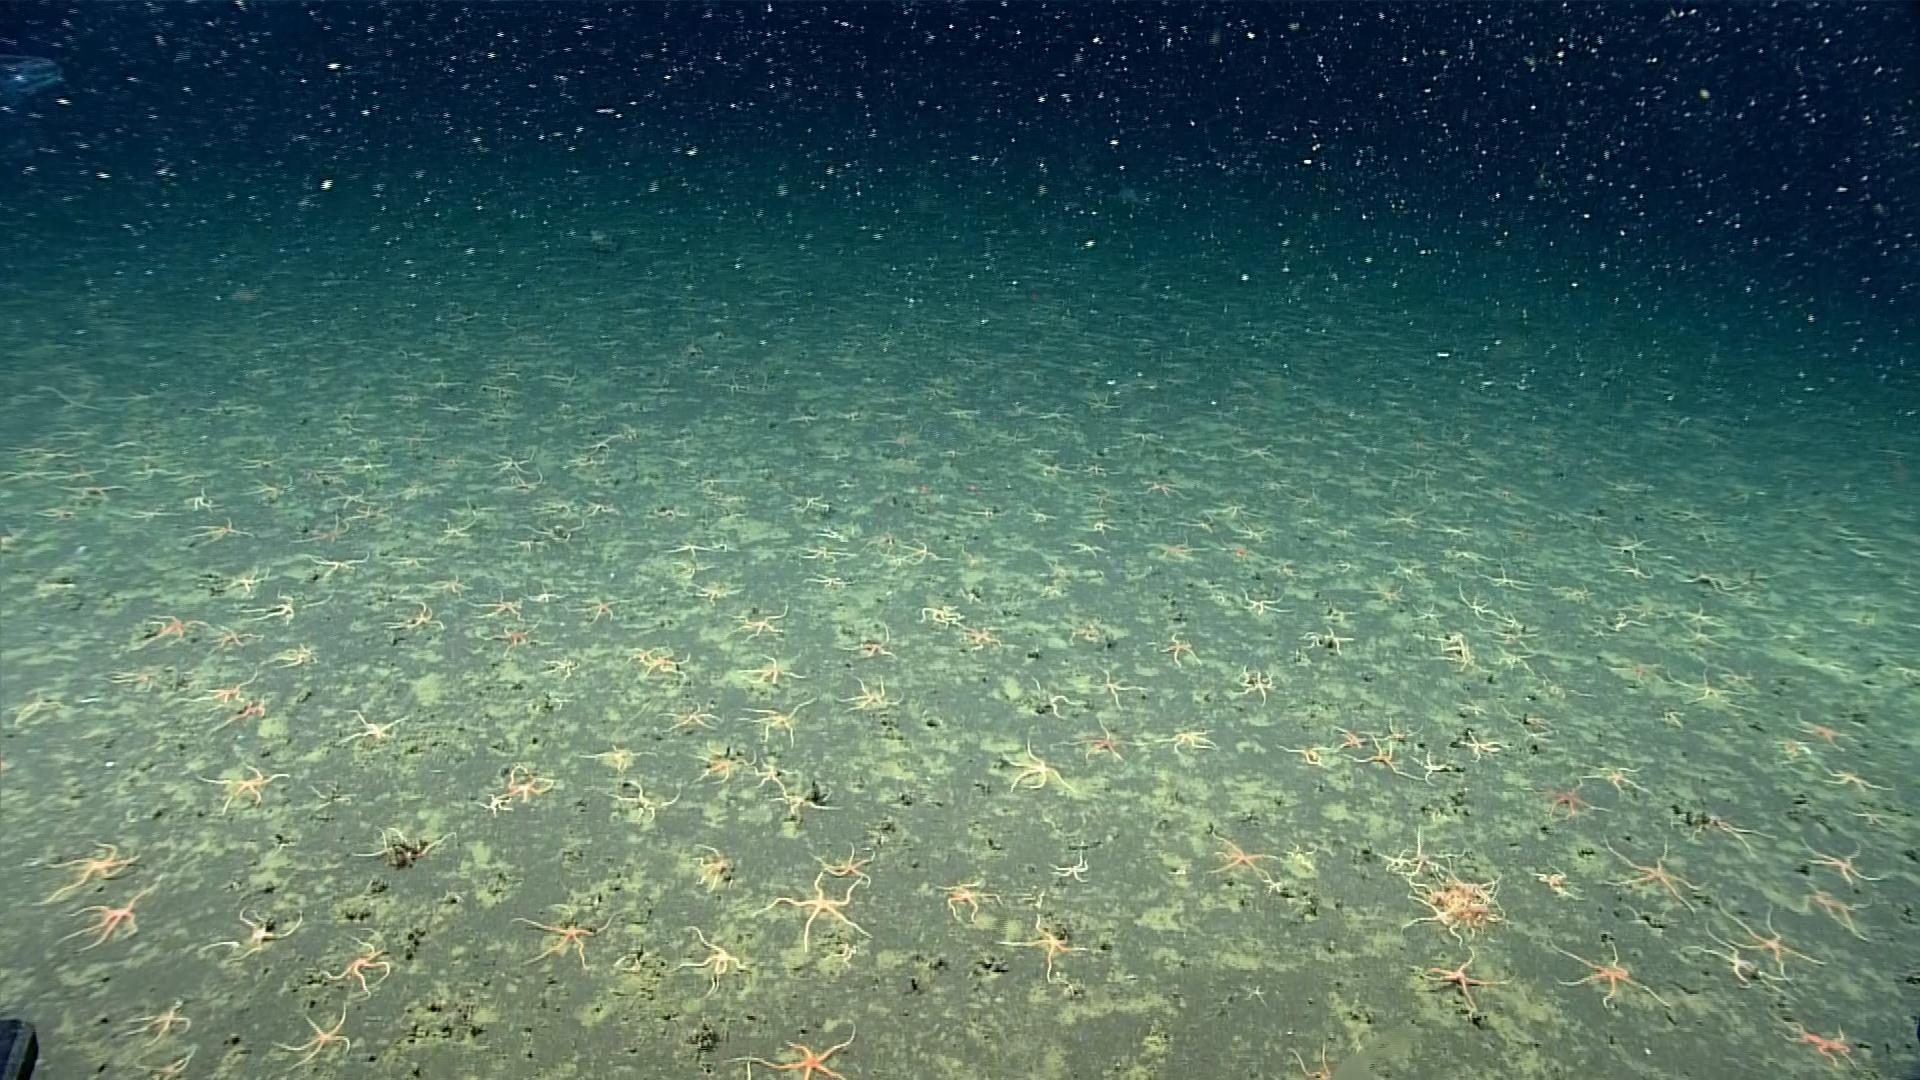brittle_sea_star: (732, 856, 861, 927), (51, 876, 164, 956), (28, 832, 141, 909), (1724, 905, 1829, 980), (1555, 943, 1672, 1010), (1610, 835, 1708, 914), (724, 1021, 866, 1075), (1411, 947, 1514, 1021), (1681, 915, 1779, 990), (504, 902, 613, 968), (993, 913, 1088, 978), (311, 926, 397, 998), (198, 903, 305, 960), (266, 998, 352, 1065), (671, 923, 749, 993), (1795, 880, 1878, 944), (195, 758, 289, 814), (1775, 1014, 1862, 1069), (352, 822, 459, 866), (1063, 708, 1146, 765), (989, 733, 1069, 791), (1681, 810, 1774, 857), (121, 607, 208, 653), (1801, 837, 1879, 889), (1196, 828, 1273, 877), (793, 823, 866, 873), (1396, 816, 1462, 872), (732, 688, 808, 736), (119, 993, 193, 1040), (1669, 663, 1747, 708), (1342, 735, 1418, 781), (1534, 777, 1611, 820), (1079, 661, 1146, 711), (928, 870, 997, 919), (331, 705, 410, 746), (603, 767, 675, 811), (177, 667, 257, 704), (723, 596, 790, 640), (471, 613, 550, 650), (828, 669, 901, 708), (682, 729, 744, 774), (1017, 671, 1073, 720), (828, 618, 897, 658), (1783, 712, 1858, 748), (210, 692, 272, 735), (1393, 885, 1452, 927), (182, 513, 252, 549), (1584, 758, 1651, 795), (687, 841, 735, 893), (740, 647, 806, 684), (286, 508, 349, 546), (1813, 765, 1890, 796), (131, 1038, 200, 1072), (1150, 716, 1220, 750), (1534, 855, 1581, 905), (758, 767, 824, 803), (299, 546, 373, 578), (645, 694, 715, 727), (500, 762, 558, 800), (377, 597, 443, 630), (1150, 625, 1204, 665), (1226, 661, 1276, 703), (237, 589, 298, 624), (947, 617, 1011, 649), (464, 585, 526, 618), (1676, 564, 1746, 593), (571, 735, 640, 764), (517, 513, 592, 539), (218, 562, 280, 593), (203, 620, 262, 653), (1478, 560, 1535, 595), (1455, 582, 1506, 618), (262, 638, 324, 669), (1366, 716, 1428, 745), (1457, 724, 1503, 762), (1146, 535, 1212, 562), (1238, 583, 1291, 616), (1303, 617, 1352, 653), (736, 738, 778, 779), (1410, 742, 1453, 782), (783, 537, 855, 560), (417, 568, 476, 596), (914, 593, 963, 626), (1600, 527, 1658, 555), (103, 662, 164, 688), (1494, 646, 1544, 678), (632, 644, 688, 671), (1274, 738, 1331, 766), (1044, 844, 1087, 880), (897, 531, 943, 563), (662, 533, 723, 556), (1842, 798, 1899, 823), (567, 593, 620, 620), (1431, 644, 1484, 670), (684, 576, 740, 601), (1486, 625, 1542, 650), (435, 509, 479, 541), (1055, 613, 1100, 644), (1204, 492, 1258, 517), (479, 448, 534, 472), (1328, 721, 1371, 750), (1226, 518, 1276, 543), (1360, 580, 1410, 605), (798, 563, 853, 585), (1379, 502, 1423, 530), (344, 498, 393, 522), (1172, 510, 1218, 534), (1135, 473, 1184, 496), (1520, 708, 1563, 733), (575, 493, 618, 517), (1432, 517, 1476, 541), (1440, 543, 1489, 564), (1559, 580, 1600, 605), (1316, 596, 1354, 622), (1429, 625, 1472, 647), (472, 789, 512, 812), (1371, 841, 1407, 868), (1063, 534, 1106, 555), (1681, 626, 1725, 647), (1232, 977, 1267, 1002), (320, 483, 365, 502), (1609, 559, 1650, 580), (1683, 601, 1717, 626), (1411, 599, 1447, 622), (1605, 609, 1644, 630), (1647, 703, 1684, 725), (1387, 554, 1422, 578), (1019, 500, 1058, 520), (1077, 514, 1114, 531), (1656, 600, 1681, 622), (1498, 612, 1532, 628), (1331, 554, 1354, 571)
